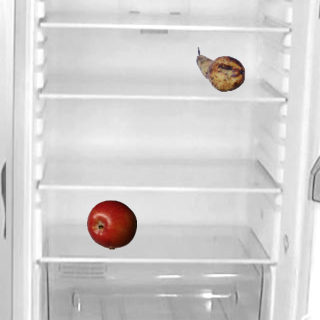Apple Braeburn: (86, 199, 136, 249)
Pear Abate: (195, 44, 245, 94)
